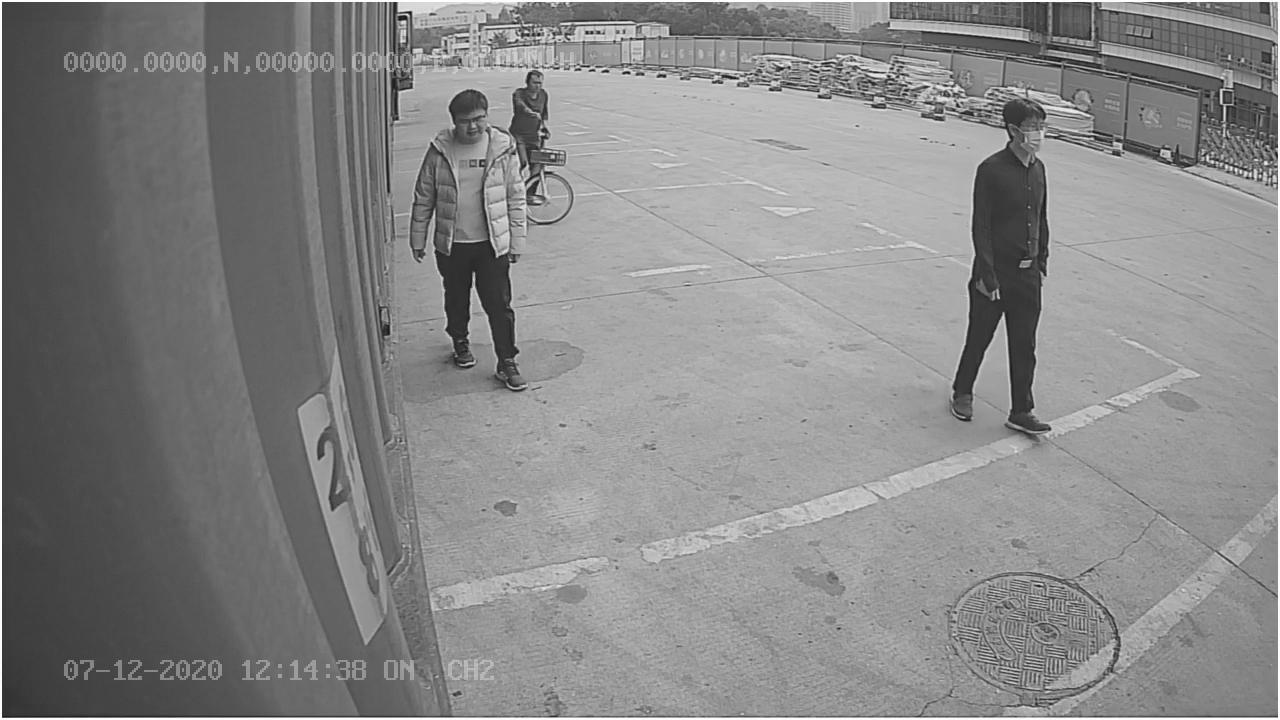person: (947, 95, 1060, 437)
